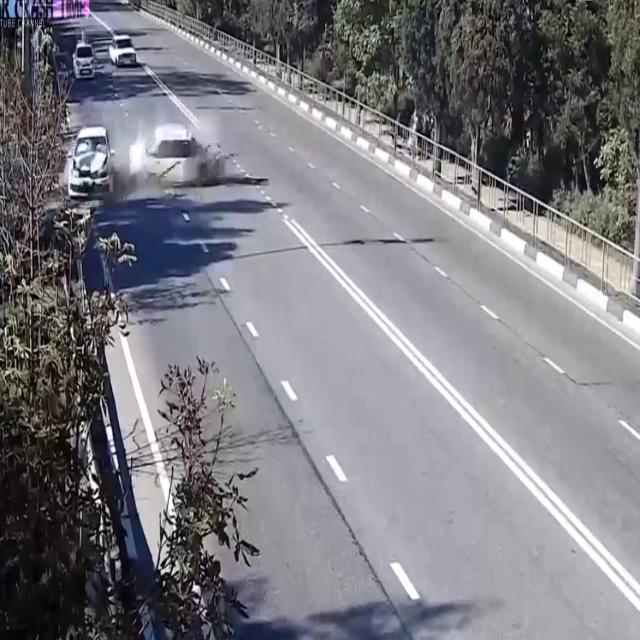accident: (60, 109, 228, 216)
non_accident: (69, 28, 141, 91)
